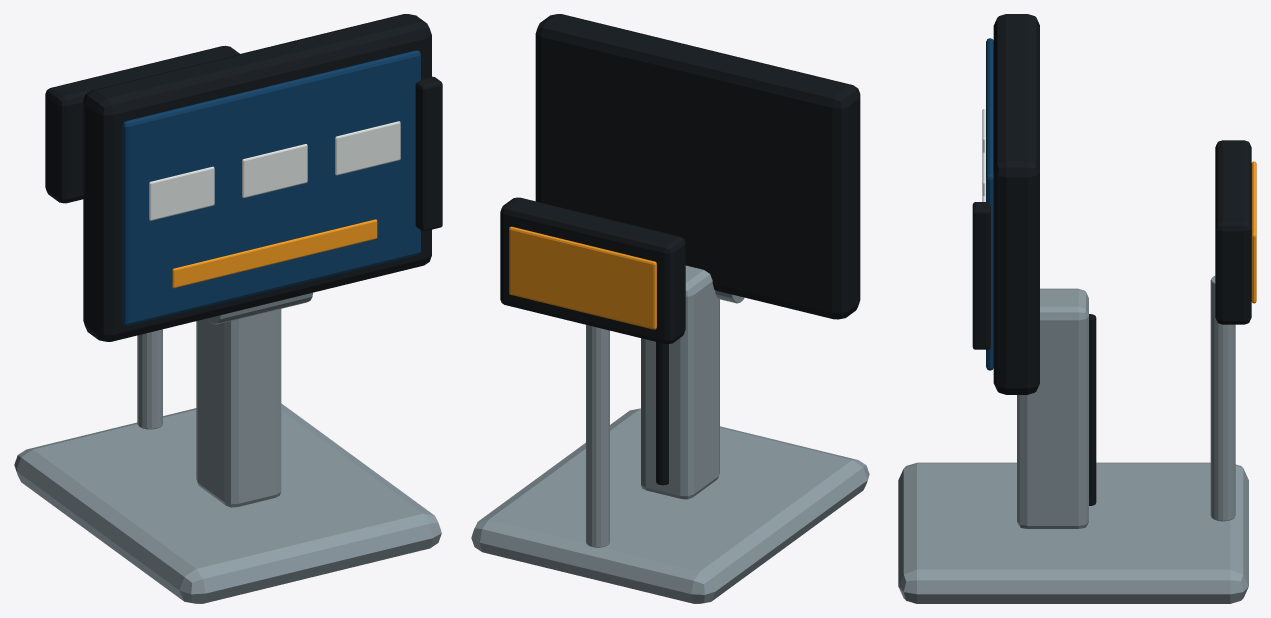
3 views of the same model, side by side, from view 1: azimuth 30°, elevation 25°; view 2: azimuth 150°, elevation 25°; view 3: azimuth 270°, elevation 25° (orthographic). The views are drawn at different scales.
Visible parts, largest first — view 1: SCREEN, BASE, DISPLAY_Case, STAND, CUSTOMER_Display, CARD_SwipeChannel, UI_Total, UI_Tile.002, UI_Tile, UI_Tile.001, CUSTOMER_Stem, TILT_Axle; view 2: DISPLAY_Case, BASE, STAND, CUSTOMER_Display, CUSTOMER_Total, CUSTOMER_Stem, CABLE_Stem; view 3: BASE, DISPLAY_Case, STAND, CUSTOMER_Display, CUSTOMER_Stem, CARD_SwipeChannel, SCREEN, CABLE_Stem, CUSTOMER_Total.
Part boxes in pixels (x1,y1,x2,y2): SCREEN: [122, 50, 420, 325]; BASE: [14, 403, 441, 603]; DISPLAY_Case: [83, 14, 431, 341]; STAND: [196, 309, 281, 507]; CUSTOMER_Display: [45, 45, 239, 203]; CARD_SwipeChannel: [415, 76, 442, 231]; UI_Total: [172, 219, 377, 287]; UI_Tile.002: [335, 121, 400, 175]; UI_Tile: [149, 166, 214, 220]; UI_Tile.001: [242, 144, 307, 197]; CUSTOMER_Stem: [137, 329, 162, 429]; TILT_Axle: [207, 292, 312, 324]; DISPLAY_Case: [535, 14, 860, 319]; BASE: [471, 408, 869, 603]; STAND: [641, 265, 719, 499]; CUSTOMER_Display: [500, 197, 685, 344]; CUSTOMER_Total: [509, 226, 656, 329]; CUSTOMER_Stem: [586, 325, 609, 547]; CABLE_Stem: [656, 342, 668, 485]; BASE: [898, 462, 1248, 603]; DISPLAY_Case: [993, 14, 1039, 394]; STAND: [1017, 288, 1088, 528]; CUSTOMER_Display: [1215, 140, 1251, 324]; CUSTOMER_Stem: [1210, 276, 1235, 521]; CARD_SwipeChannel: [972, 202, 990, 349]; SCREEN: [986, 38, 993, 370]; CABLE_Stem: [1089, 314, 1096, 505]; CUSTOMER_Total: [1251, 161, 1256, 303].
Bounding box in the file's own units: 0.36 × 0.495 × 0.3475.
